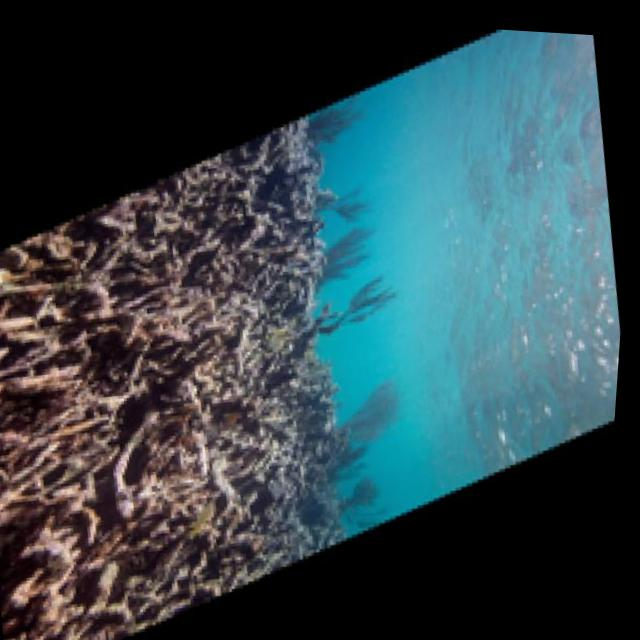Dead Coral: (0, 236, 302, 563), (136, 130, 365, 414)
